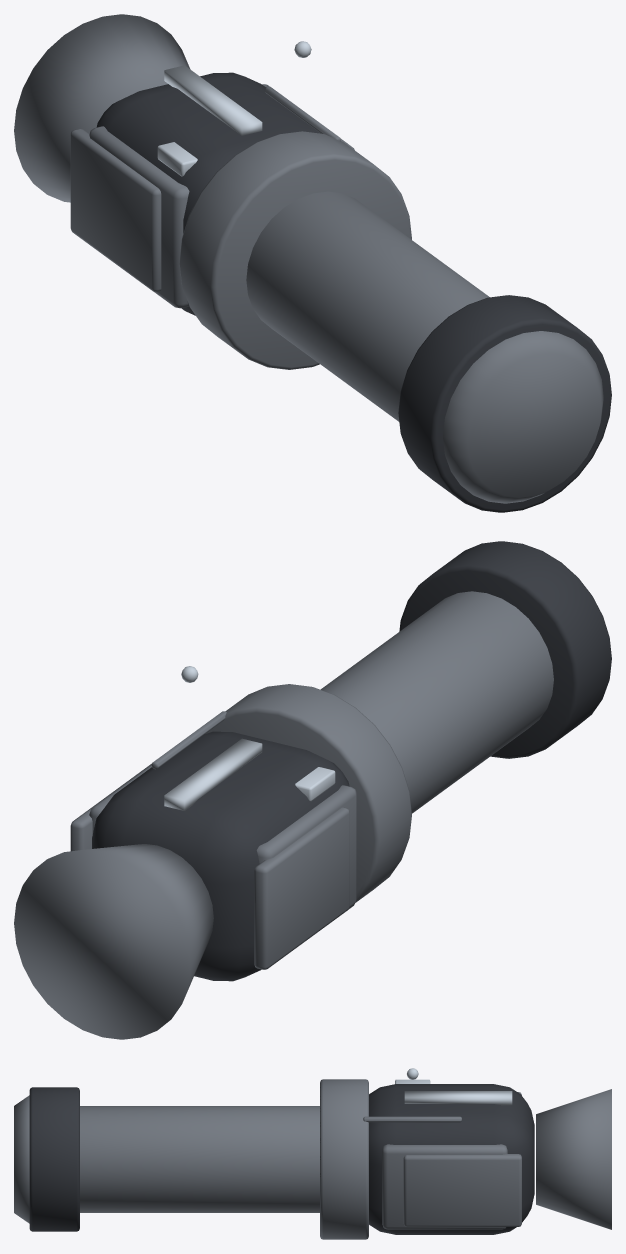
The model's file is weapon_drone_brute.glb.
3 renders of one model, top to bottom at view 1: azimuth 30°, elevation 25°; view 2: azimuth 150°, elevation 25°; view 3: azimuth 270°, elevation 25°, orthographic. The views are drawn at different scales.
Visible parts, largest first — view 1: weapon_drone_brute; view 2: weapon_drone_brute; view 3: weapon_drone_brute.
Part boxes in pixels (x1,y1,x2,y2): weapon_drone_brute: [14, 14, 611, 512]; weapon_drone_brute: [14, 541, 611, 1039]; weapon_drone_brute: [14, 1068, 611, 1239].
Bounding box in the file's own units: 0.5916 × 0.7426 × 2.2.
